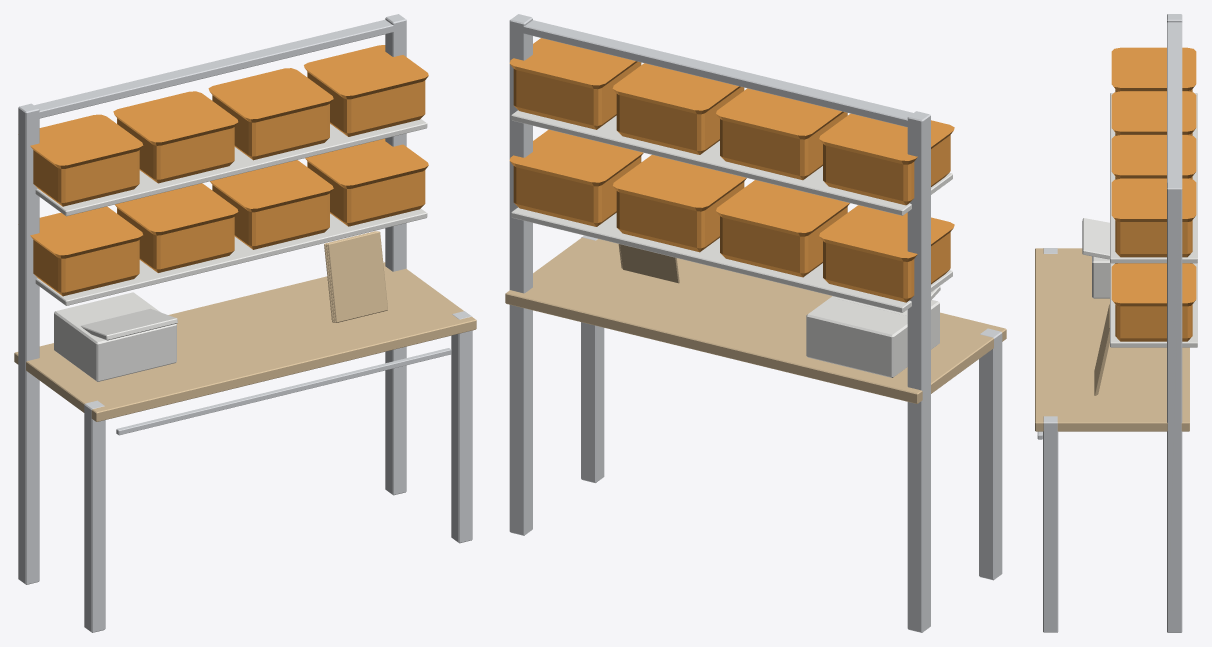
Rendered from order-pick-trolley-station.glb.
The picture shows the model from 3 angles, left to right: view 1: azimuth 30°, elevation 25°; view 2: azimuth 150°, elevation 25°; view 3: azimuth 270°, elevation 25°; orthographic projection. The views are drawn at different scales.
Parts seen in each view (by area): view 1: order-pick-trolley-station; view 2: order-pick-trolley-station; view 3: order-pick-trolley-station.
Part boxes in pixels (x1,y1,x2,y2): order-pick-trolley-station: (14, 14, 476, 632); order-pick-trolley-station: (505, 14, 1006, 632); order-pick-trolley-station: (1035, 14, 1197, 632).
Bounding box in the file's own units: 1.6 × 1.9 × 0.63.
